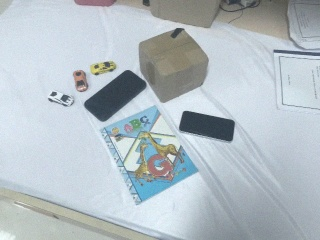book: (85, 102, 202, 206)
box: (138, 27, 209, 103), (144, 1, 224, 29)
phone: (83, 68, 147, 122), (179, 109, 236, 143)
toy_car: (47, 90, 75, 106), (90, 60, 117, 75), (73, 70, 88, 92)
